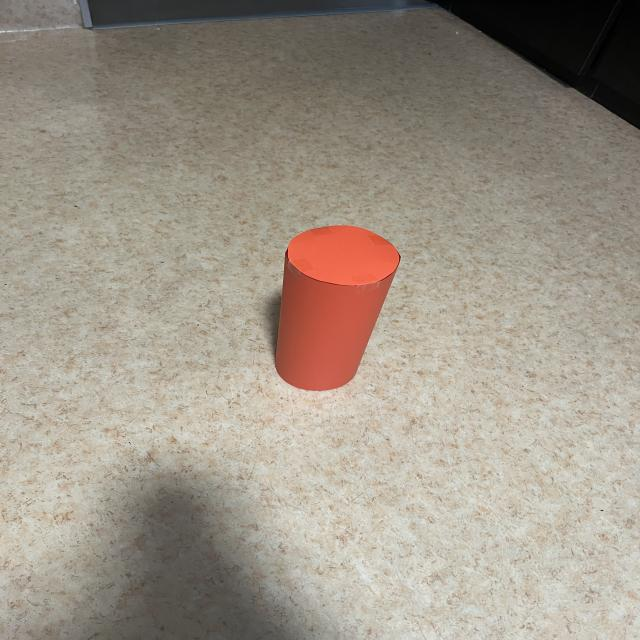przeszkoda: (275, 226, 400, 390)
